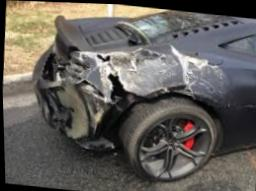Bumper: (30, 47, 121, 149)
Fender: (64, 41, 246, 108)
